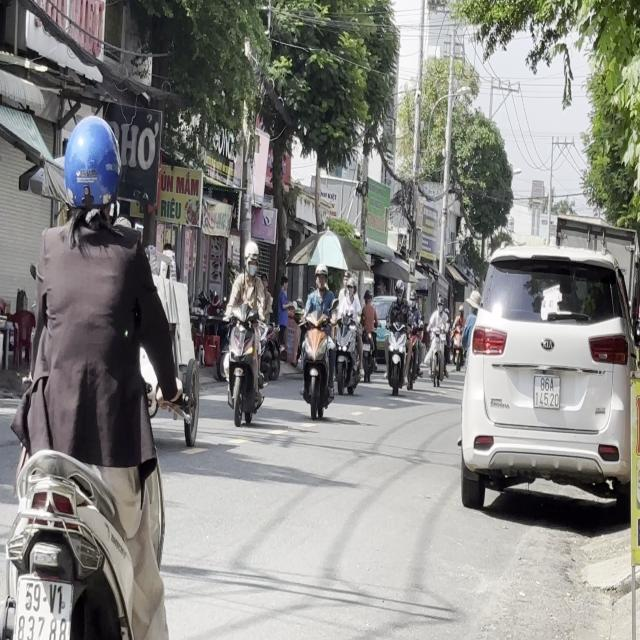helmet: (59, 113, 122, 232), (243, 240, 259, 276), (314, 262, 328, 290)
licenseplate: (0, 110, 183, 634), (220, 238, 268, 426), (298, 261, 338, 420)
nohelmet: (14, 579, 72, 636)
